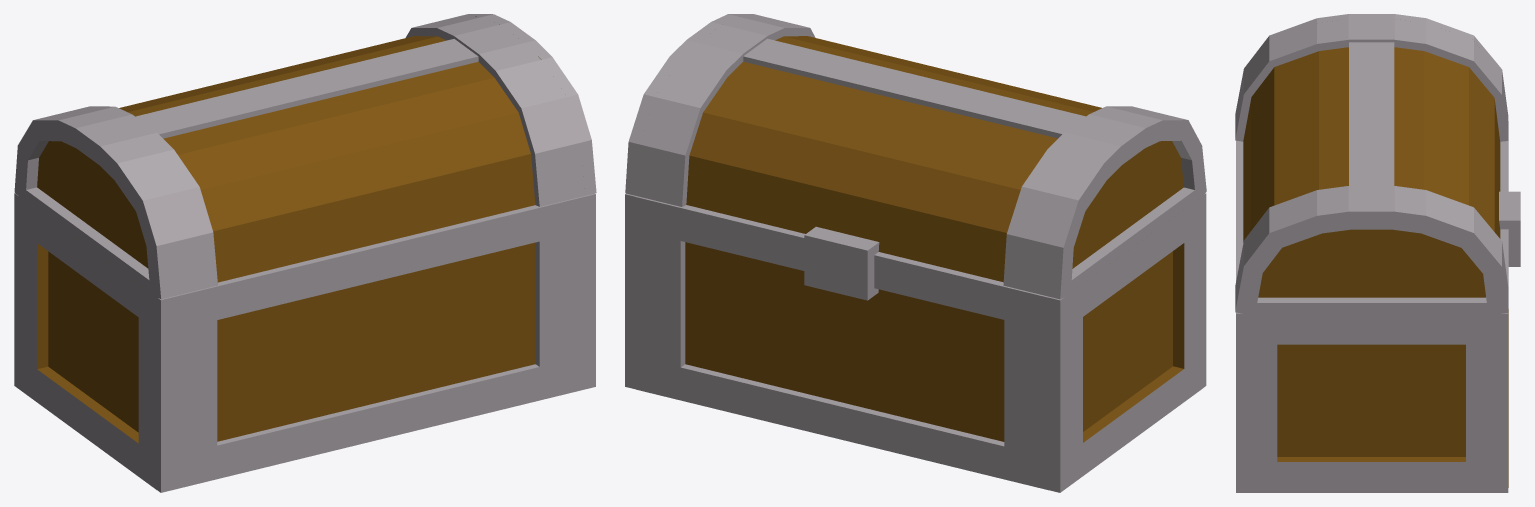
Rendered from low_poly_chest.fbx.
The picture shows the model from 3 angles, left to right: view 1: azimuth 30°, elevation 25°; view 2: azimuth 150°, elevation 25°; view 3: azimuth 270°, elevation 25°; orthographic projection. The views are drawn at different scales.
Parts seen in each view (by area): view 1: Cube; view 2: Cube; view 3: Cube.
Part boxes in pixels (x1=…): Cube: x1=14, y1=14, x2=596, y2=492; Cube: x1=625, y1=14, x2=1206, y2=492; Cube: x1=1235, y1=14, x2=1520, y2=492.
Size of the model in its own units: 364 by 242 by 222.
